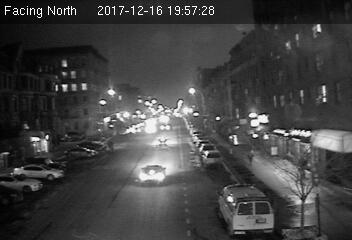car: (136, 164, 169, 185), (203, 149, 221, 164)
police: (214, 181, 278, 239)
